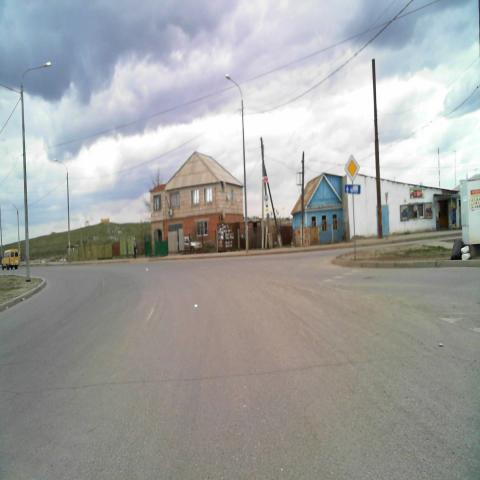6_15_1: (344, 182, 362, 196)
